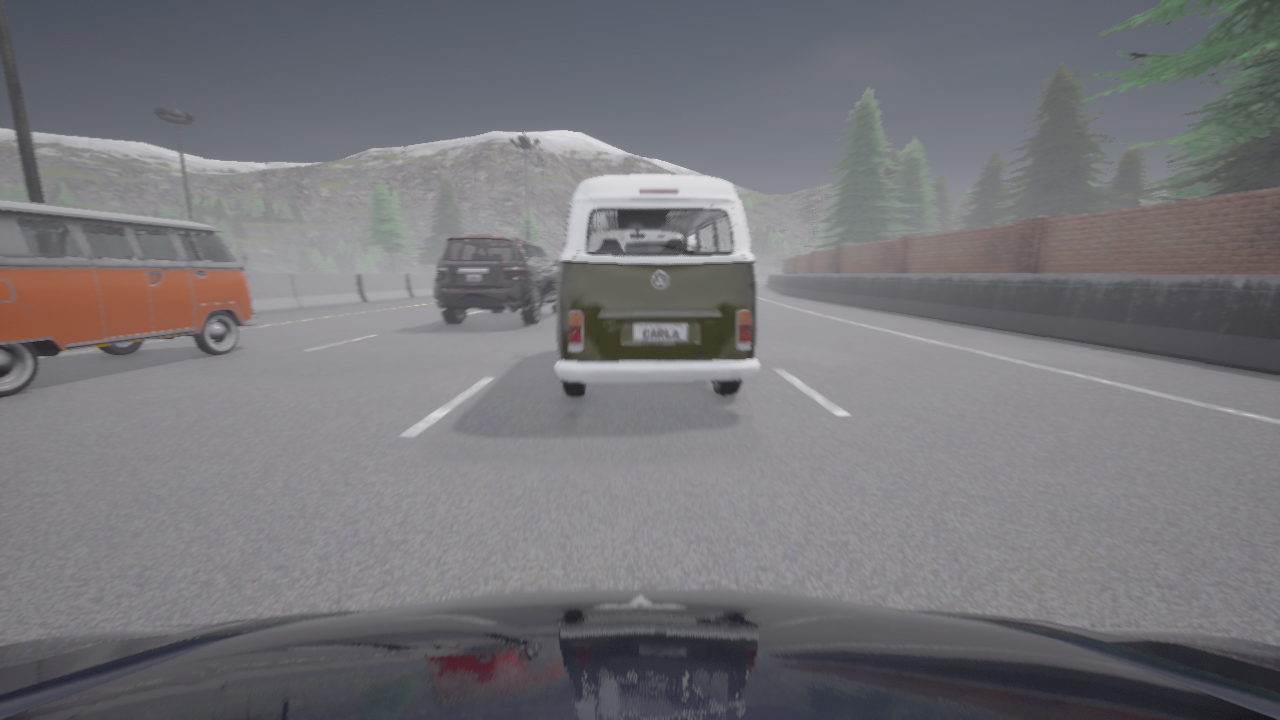cyclist: (0, 588, 1279, 719), (554, 175, 759, 397), (433, 235, 559, 324)
